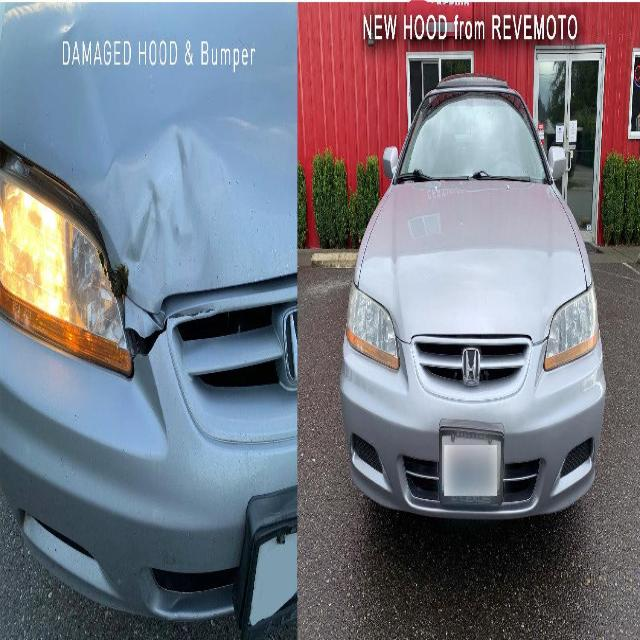dent: (82, 117, 264, 360)
